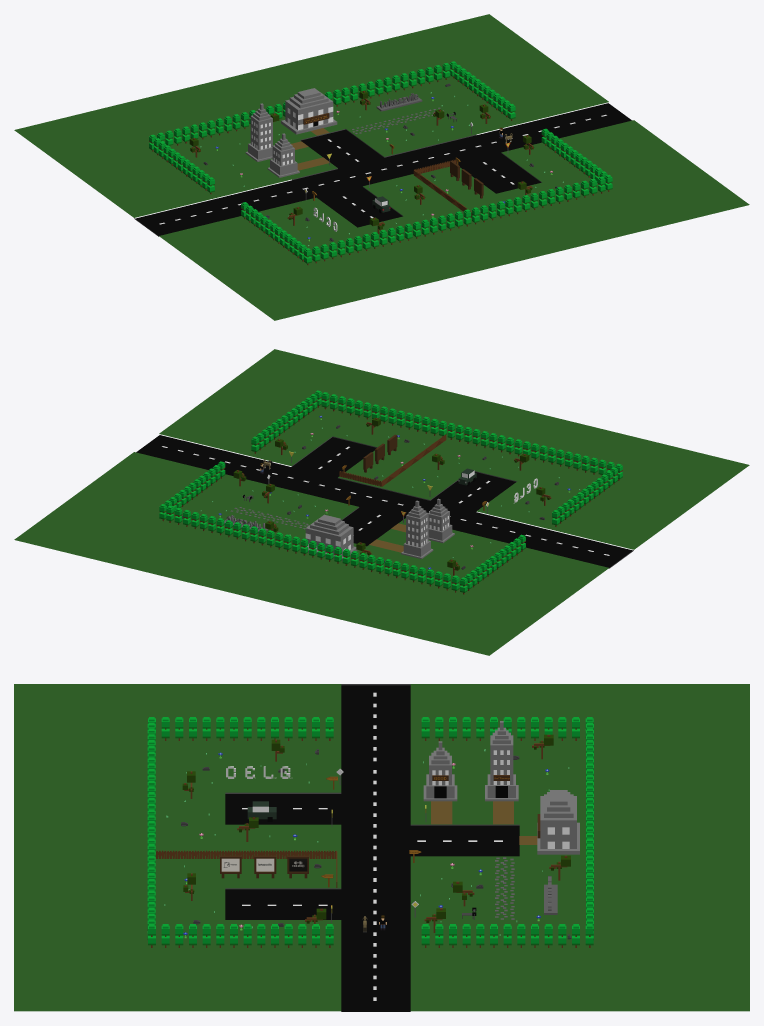
The model's file is Portfolio.glb.
The picture shows the model from 3 angles, top to bottom: view 1: azimuth 30°, elevation 25°; view 2: azimuth 150°, elevation 25°; view 3: azimuth 270°, elevation 25°; orthographic projection. The views are drawn at different scales.
Visible parts, largest first — view 1: World, School, Koffeecup, Good; view 2: World, School, Koffeecup, Good; view 3: World, School, Koffeecup, Good.
Part boxes in pixels (left/top/right/bottom): World: left=14, top=14, right=749, bottom=320; School: left=281, top=88, right=337, bottom=134; Koffeecup: left=245, top=103, right=272, bottom=161; Good: left=267, top=133, right=299, bottom=177; World: left=14, top=349, right=749, bottom=655; School: left=305, top=514, right=357, bottom=561; Koffeecup: left=401, top=500, right=433, bottom=559; Good: left=428, top=498, right=454, bottom=543; World: left=14, top=684, right=749, bottom=1011; School: left=537, top=790, right=579, bottom=854; Koffeecup: left=485, top=721, right=518, bottom=801; Good: left=423, top=741, right=457, bottom=801.
Size of what is drawn, in the model's own units: 459 by 48.14 by 436.
Materials: 49 (3 with a texture image).
